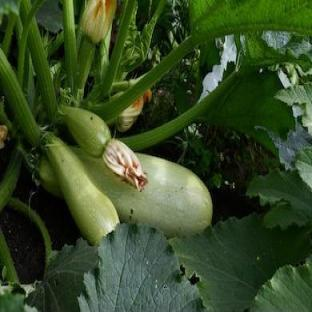Zucchini: (74, 149, 212, 237), (46, 136, 119, 244), (61, 106, 111, 157)
